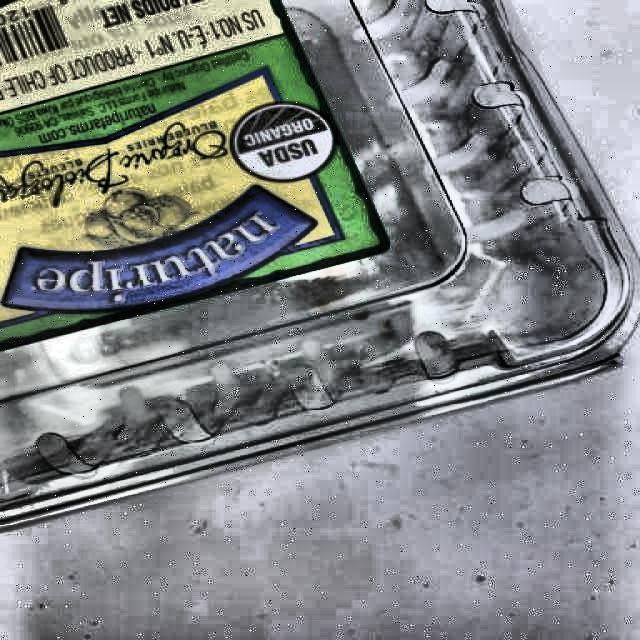plastic: (0, 0, 639, 527)
